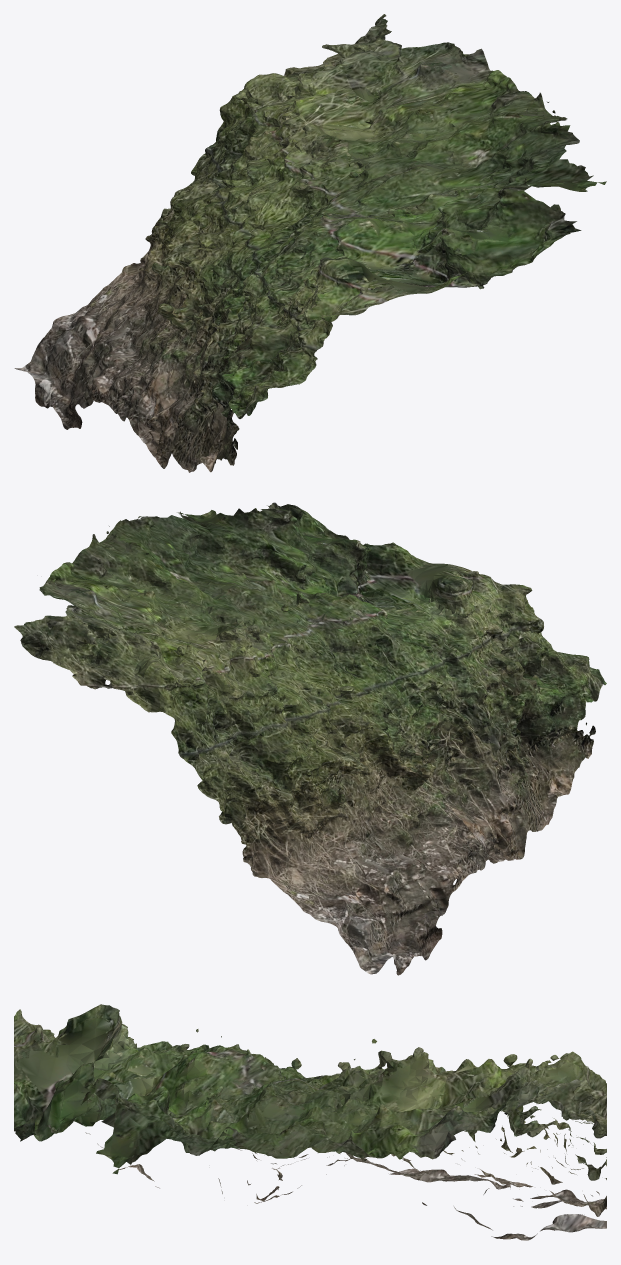
3 renders of one model, top to bottom at view 1: azimuth 30°, elevation 25°; view 2: azimuth 150°, elevation 25°; view 3: azimuth 270°, elevation 25°, orthographic. The views are drawn at different scales.
Bounding box in the file's own units: 5.05 × 3.4 × 5.05.
4 materials, 4 textured.
